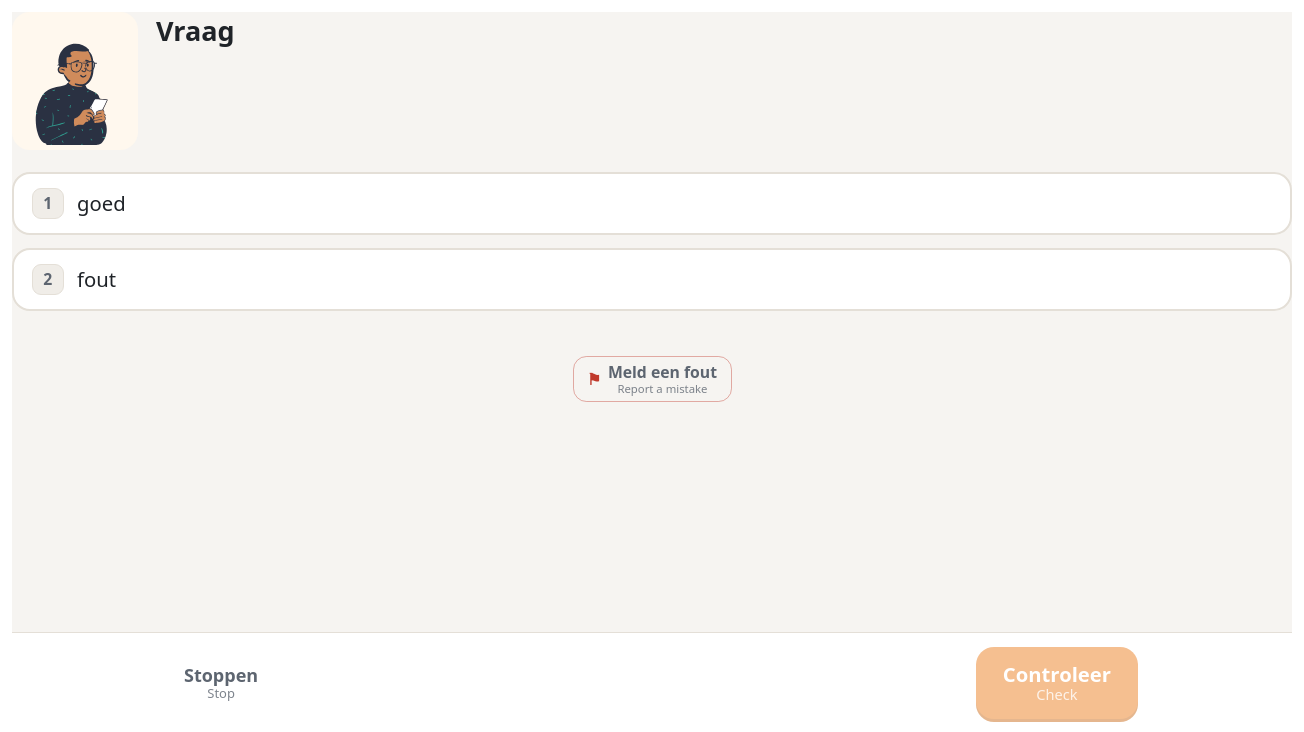
it: feedback is Dutch first › 'In mijn taal' switches it to English and remembers that; the course explanation stays Dutch
The width and height of the screenshot is (1304, 732).
Click the button "2 fout": point(48, 279) [12, 248, 1292, 311]
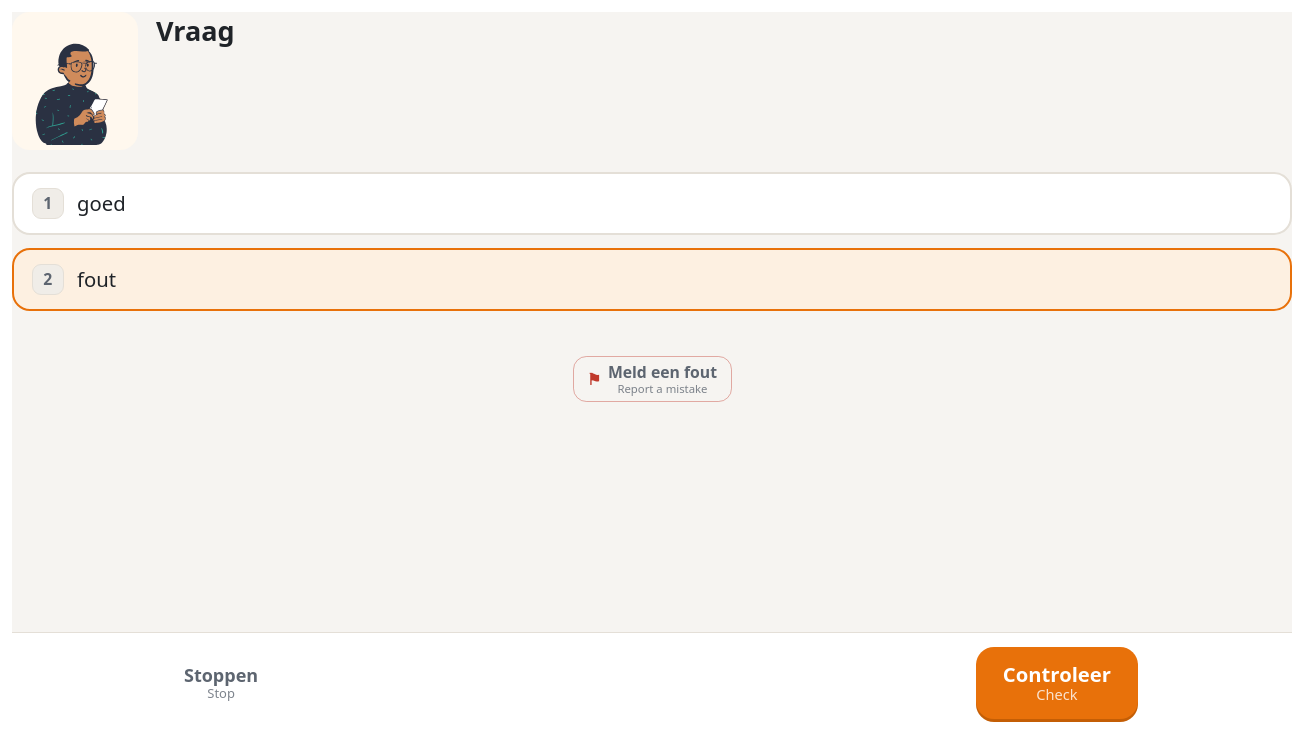
Click the button "Controleer Check": point(1057, 683) [976, 647, 1138, 718]
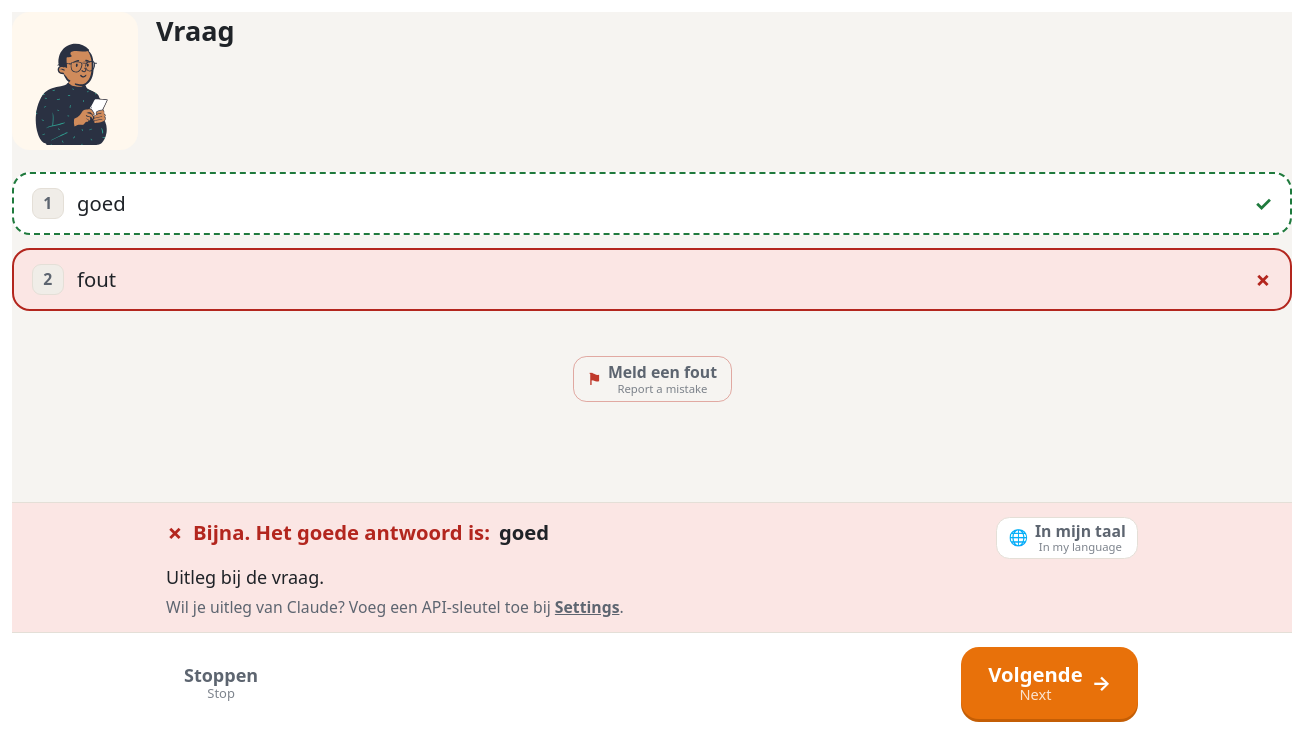
Click the button "🌐 In mijn taal In my language": point(1067, 538) [996, 516, 1138, 559]
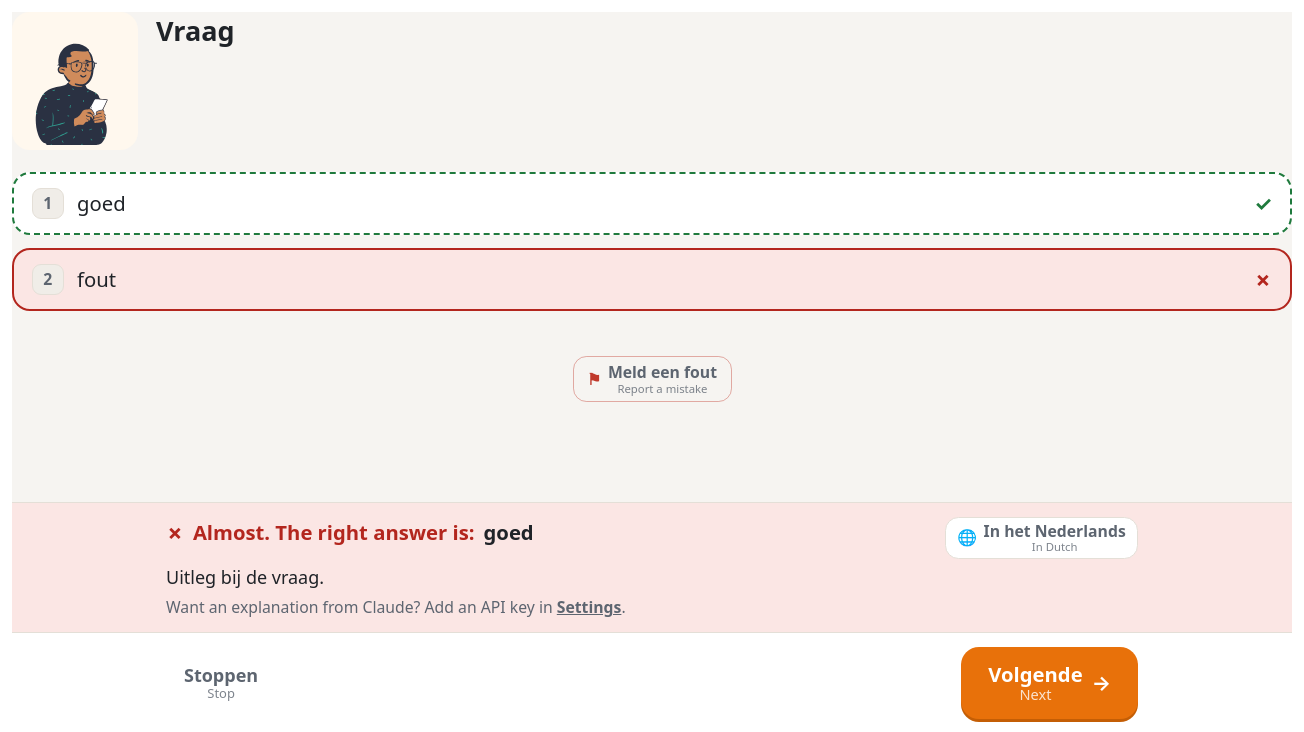
Expected: the message "✗ Almost. The right answer is: goed 🌐 In het Nederlands In Dutch Uitleg bij de" is shown, [193, 518, 474, 546]
Click the button "🌐 In het Nederlands In Dutch": point(1041, 538) [945, 516, 1138, 559]
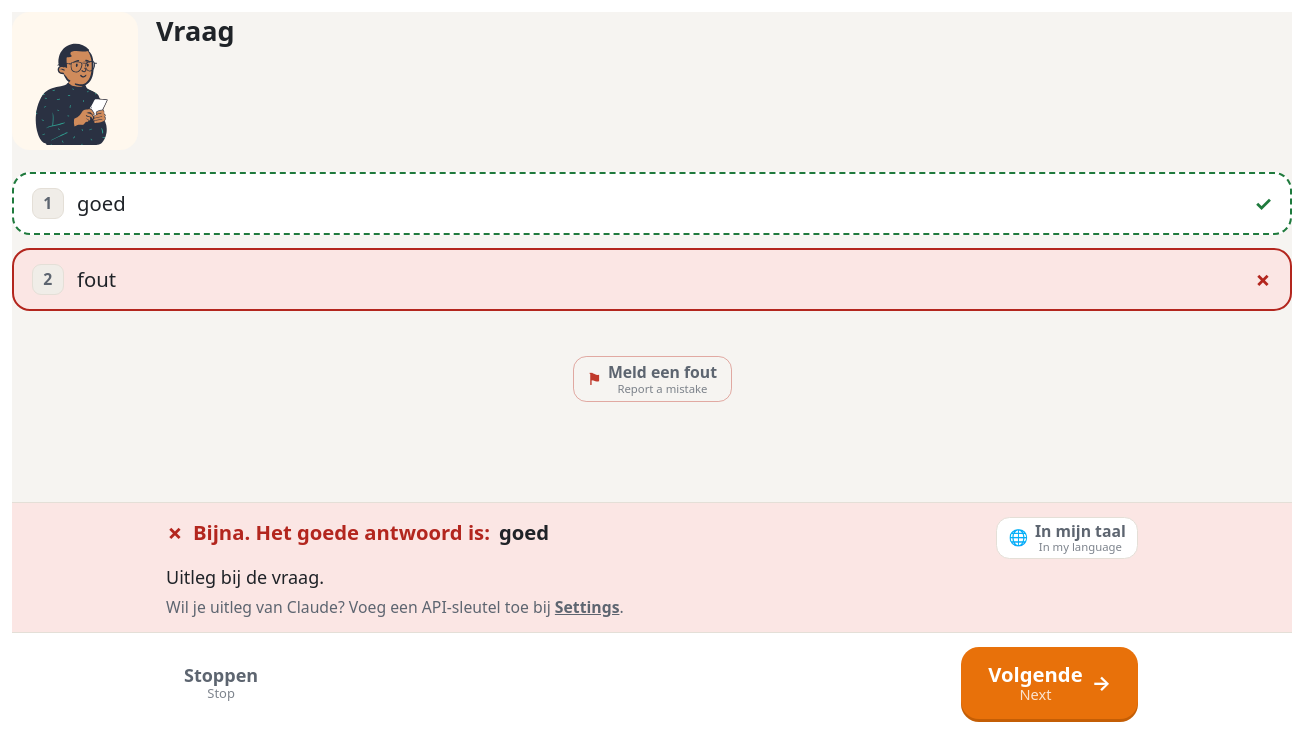
Expected: the message shows "Bijna. Het goede antwoord is:", [193, 518, 490, 546]
